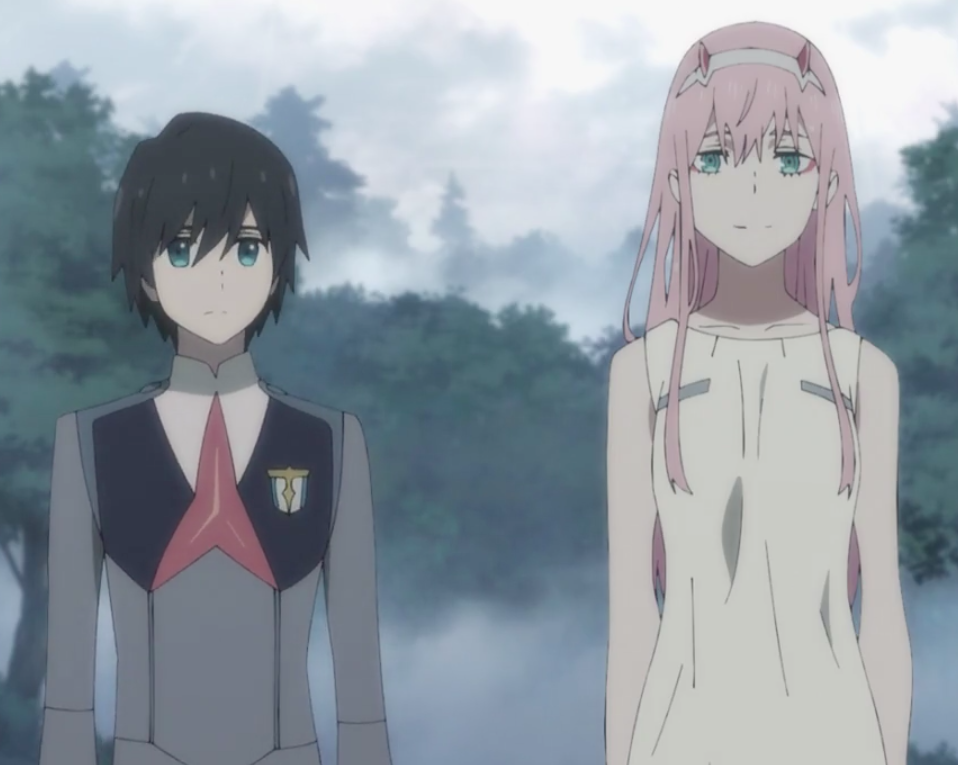zeroTwo: (650, 21, 865, 274)
